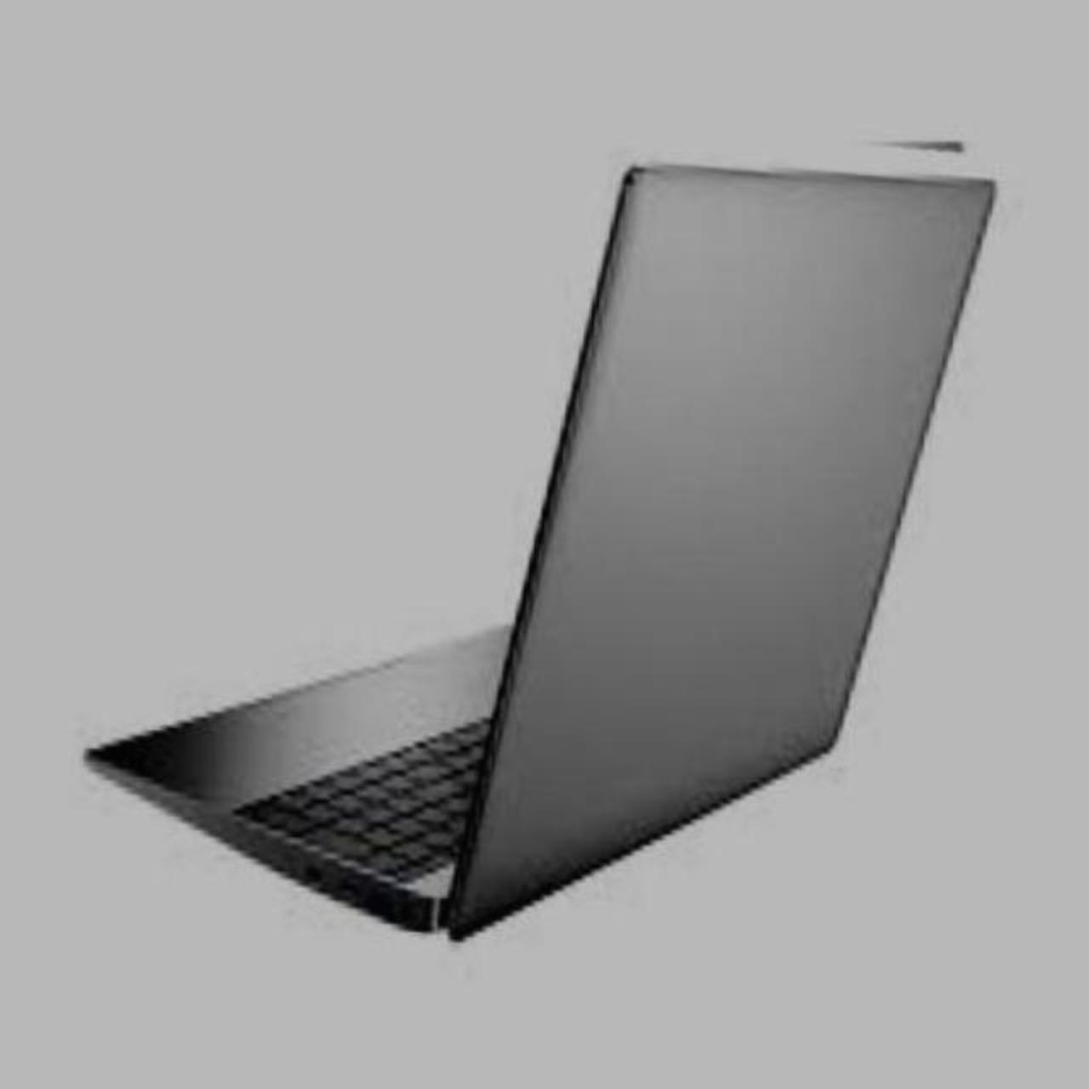laptop: (50, 98, 1025, 1008)
